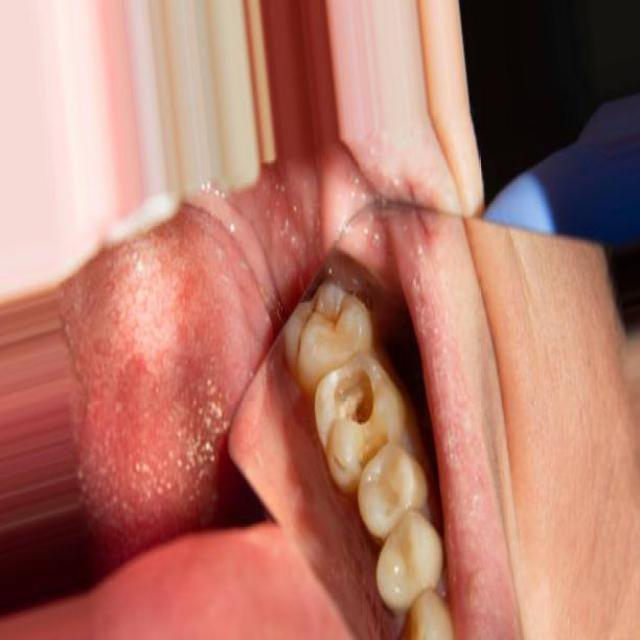caries: (318, 356, 396, 463)
